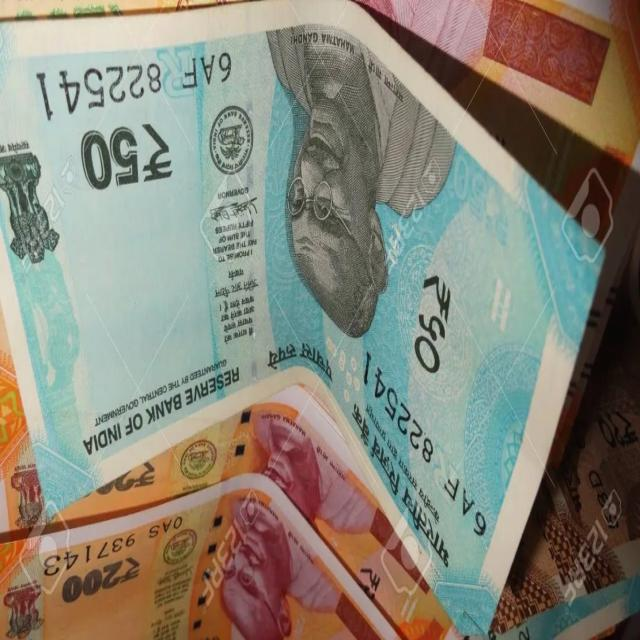50IndianRupees: (0, 0, 604, 640)
